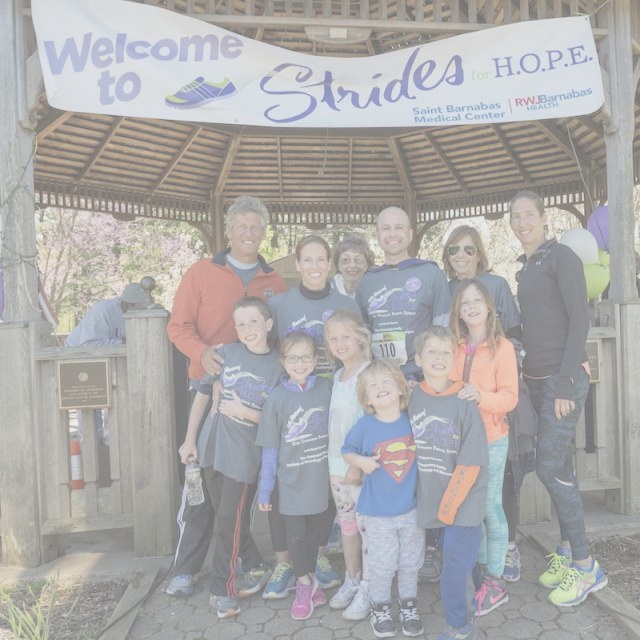pessoa: (165, 193, 288, 600), (503, 185, 612, 611), (172, 292, 294, 622), (406, 323, 492, 640), (336, 356, 429, 639), (446, 278, 518, 616), (253, 327, 334, 622), (352, 203, 456, 384), (319, 307, 378, 622), (60, 281, 153, 472), (266, 234, 366, 378), (440, 222, 524, 346), (330, 234, 378, 302)
